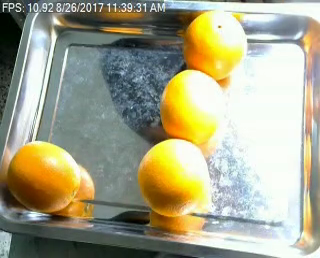Orange: (8, 141, 82, 212)
